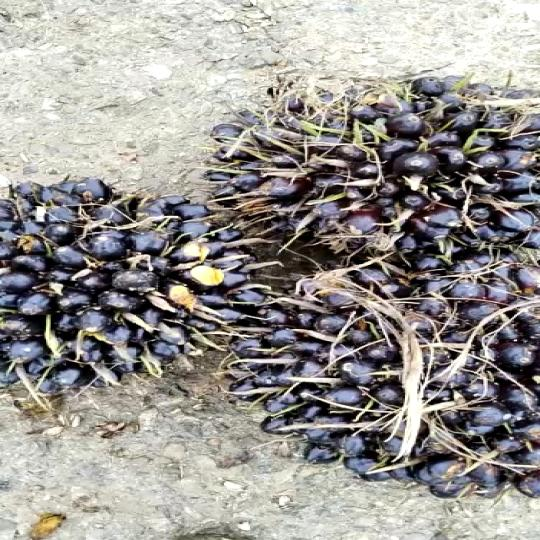mentah: (227, 242, 540, 488), (0, 171, 270, 400), (211, 63, 540, 235)
